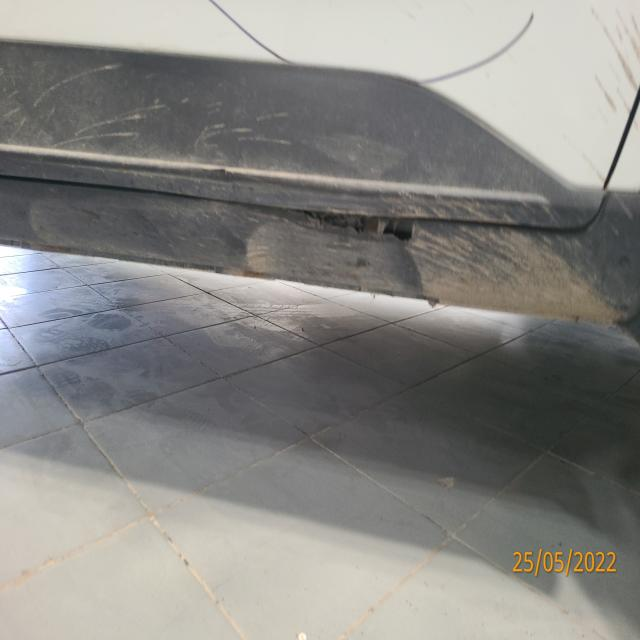damage: (46, 137, 510, 288)
